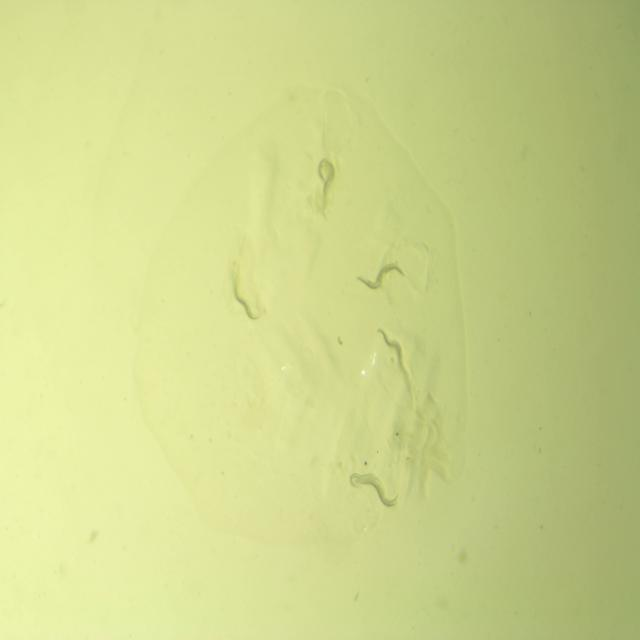worm: (354, 259, 408, 292), (230, 277, 262, 323), (356, 477, 400, 510), (375, 325, 405, 366), (348, 470, 387, 500), (316, 154, 338, 207)
